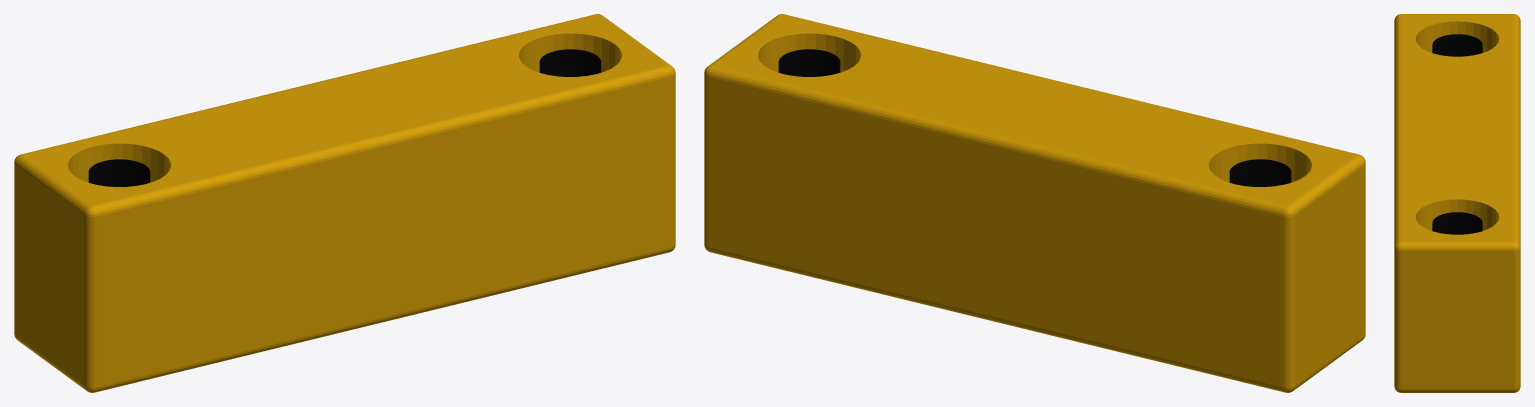
File: bumblebee2.dae
3 renders of one model, left to right at view 1: azimuth 30°, elevation 25°; view 2: azimuth 150°, elevation 25°; view 3: azimuth 270°, elevation 25°, orthographic. The views are drawn at different scales.
Parts seen in each view (by area): view 1: Cube_001, Cube_003, Cube_002; view 2: Cube_001, Cube_003, Cube_002; view 3: Cube_001, Cube_002, Cube_003.
Part boxes in pixels (x1,y1,x2,y2): Cube_001: (14, 14, 675, 392); Cube_003: (88, 159, 150, 186); Cube_002: (539, 49, 601, 76); Cube_001: (704, 14, 1365, 392); Cube_003: (1229, 159, 1291, 186); Cube_002: (778, 49, 840, 76); Cube_001: (1394, 14, 1520, 392); Cube_002: (1432, 212, 1482, 234); Cube_003: (1432, 34, 1482, 56).
Size of the model in its own units: 0.157 by 0.036 by 0.0474.
